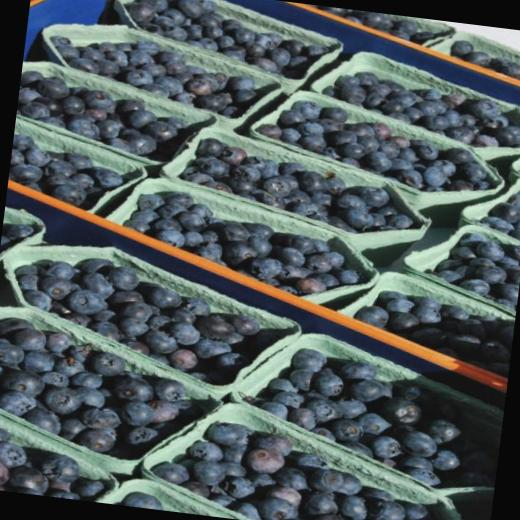Orange: (5, 245, 269, 387), (238, 342, 472, 488), (145, 414, 435, 520), (115, 187, 372, 303), (0, 313, 198, 462), (172, 134, 422, 240), (250, 94, 502, 199), (42, 30, 264, 120), (314, 65, 520, 153), (116, 0, 330, 80), (13, 70, 192, 160), (350, 286, 516, 371), (6, 129, 133, 211), (0, 422, 112, 502), (421, 225, 520, 302), (318, 6, 431, 43), (443, 37, 520, 84), (476, 181, 520, 240), (120, 490, 167, 510)
